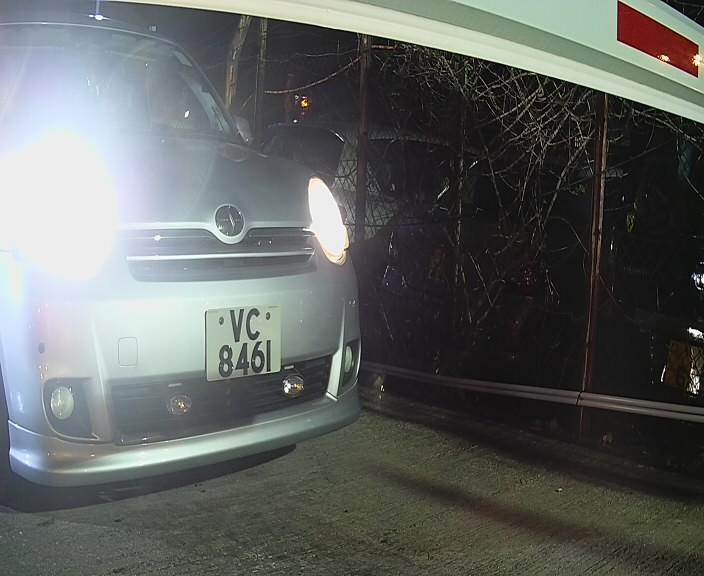License Plate: (187, 287, 294, 393)
